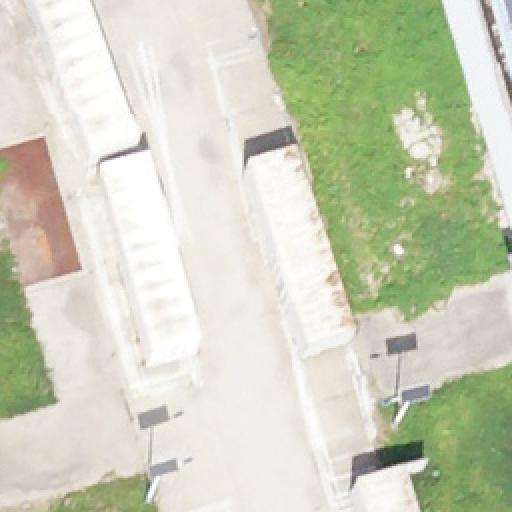solar-panel: (504, 0, 512, 24)
